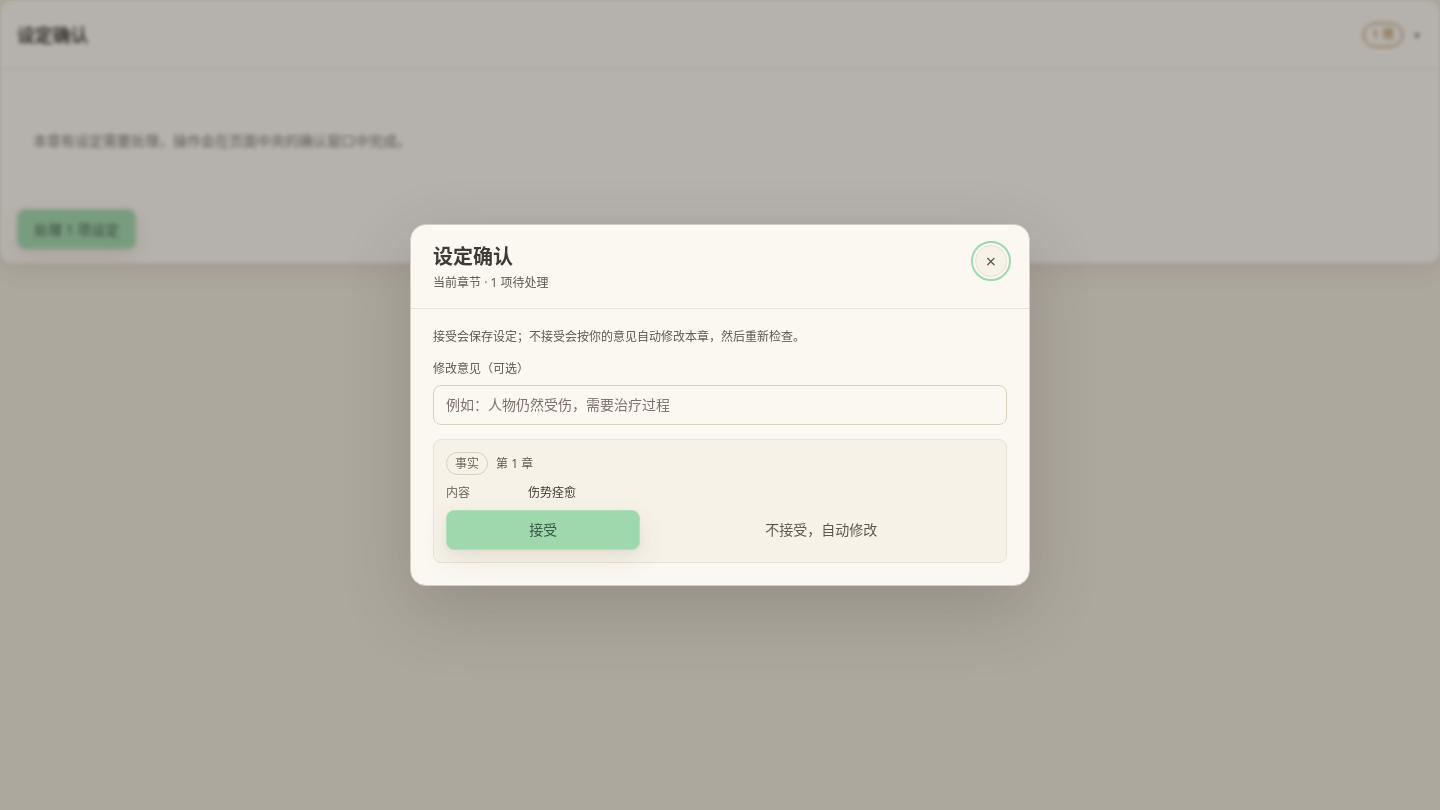
it: keeps saved rejection retryable when resume fails without rejecting twice
This screenshot has width=1440, height=810.
Click the button "不接受，自动修改" at {"x": 821, "y": 530}, box 648,510 -> 994,550
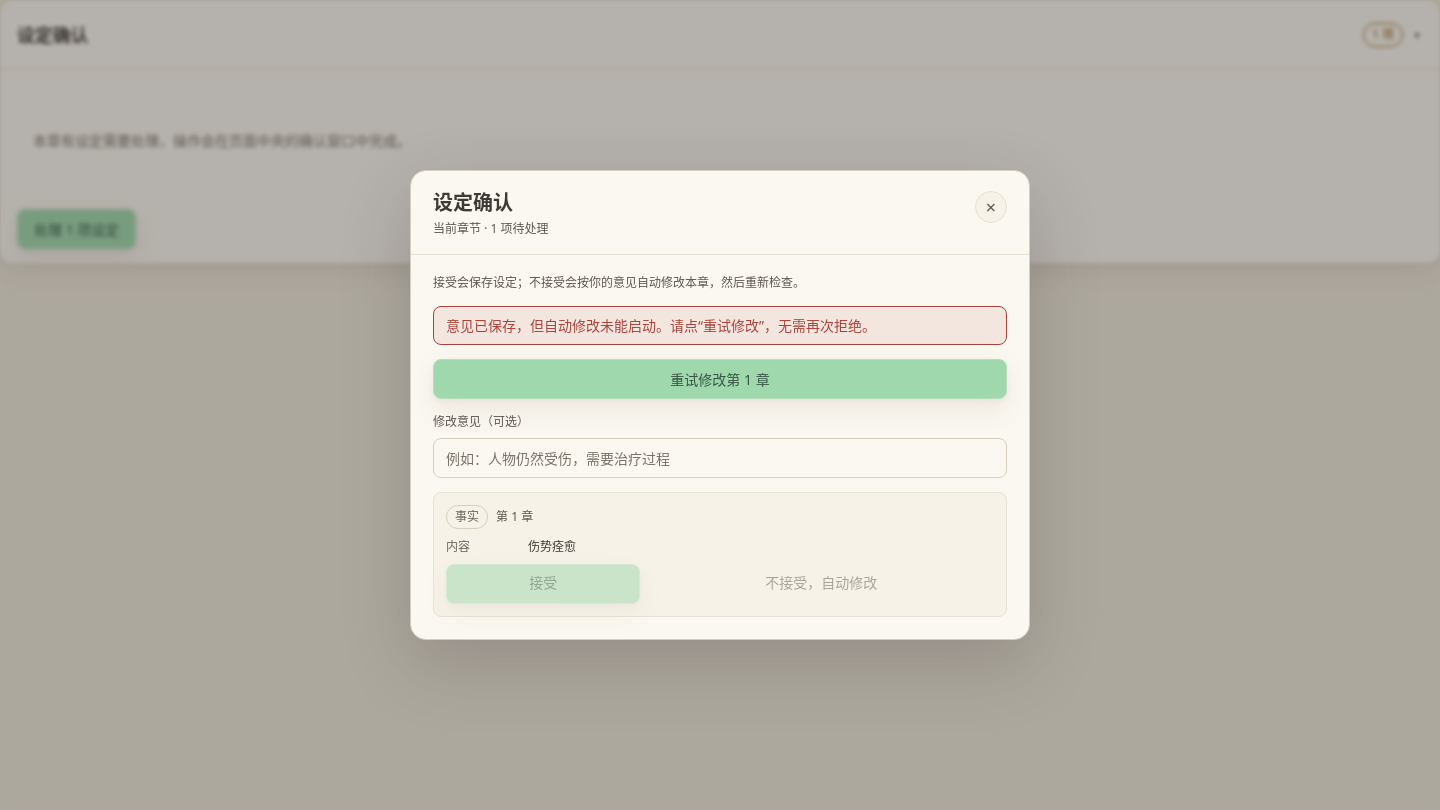
Expected: the text "意见已保存，但自动修改未能启动。请点“重试修改”，无需再次拒绝。" is shown, 433,306 -> 1007,345
Click the button "重试修改第 1 章" at {"x": 720, "y": 379}, box 433,359 -> 1007,399
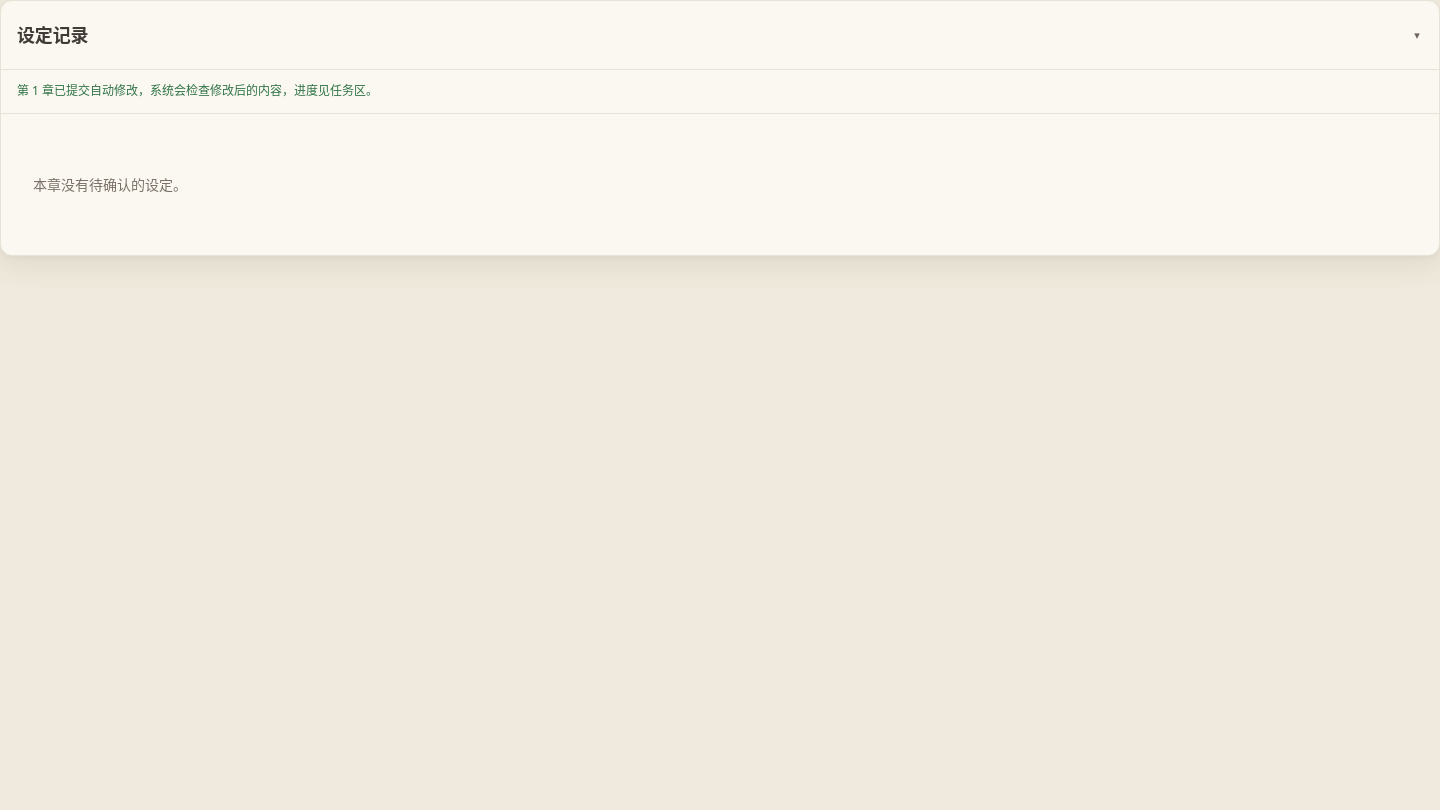
Expected: the text "第 1 章已提交自动修改，系统会检查修改后的内容，进度见任务区。" is shown, 1,69 -> 1439,113
